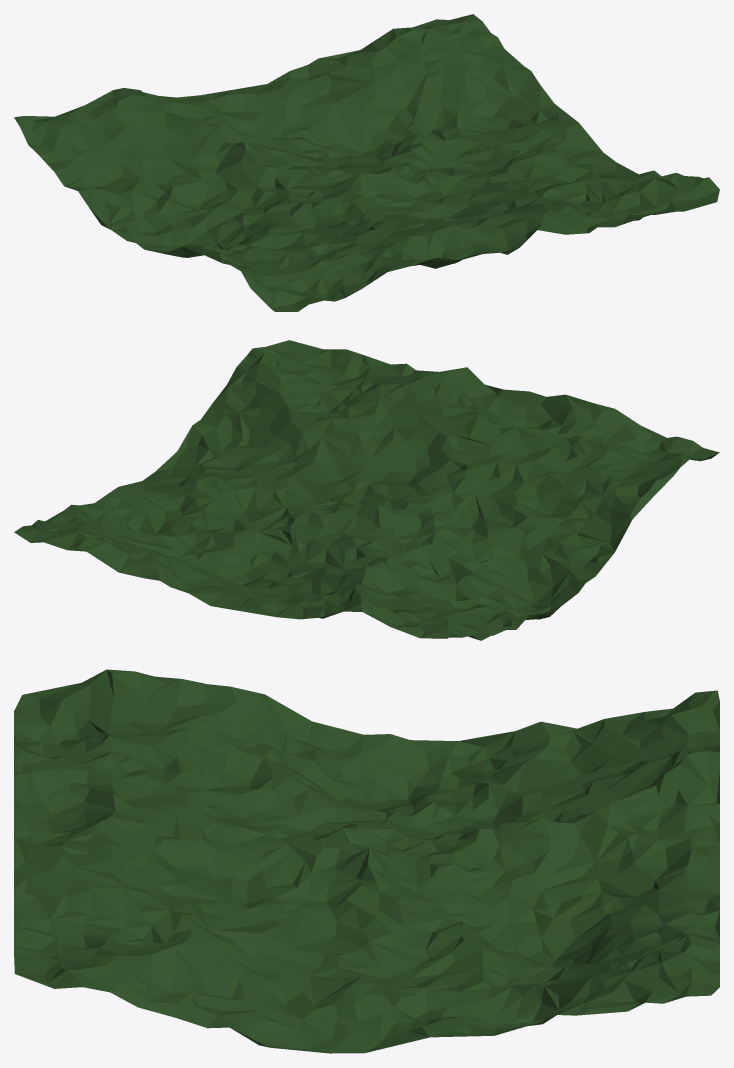
The model's file is SM_landscape_14.fbx.
3 views of the same model, one above another, from view 1: azimuth 30°, elevation 25°; view 2: azimuth 150°, elevation 25°; view 3: azimuth 270°, elevation 25° (orthographic). The views are drawn at different scales.
Visible parts, largest first — view 1: landscape_14; view 2: landscape_14; view 3: landscape_14.
Part boxes in pixels (box(x1,y1,x2,y2)): landscape_14: box(14, 14, 719, 311); landscape_14: box(14, 340, 719, 640); landscape_14: box(14, 669, 719, 1053).
Bounding box in the file's own units: 2224 × 367 × 2224.
